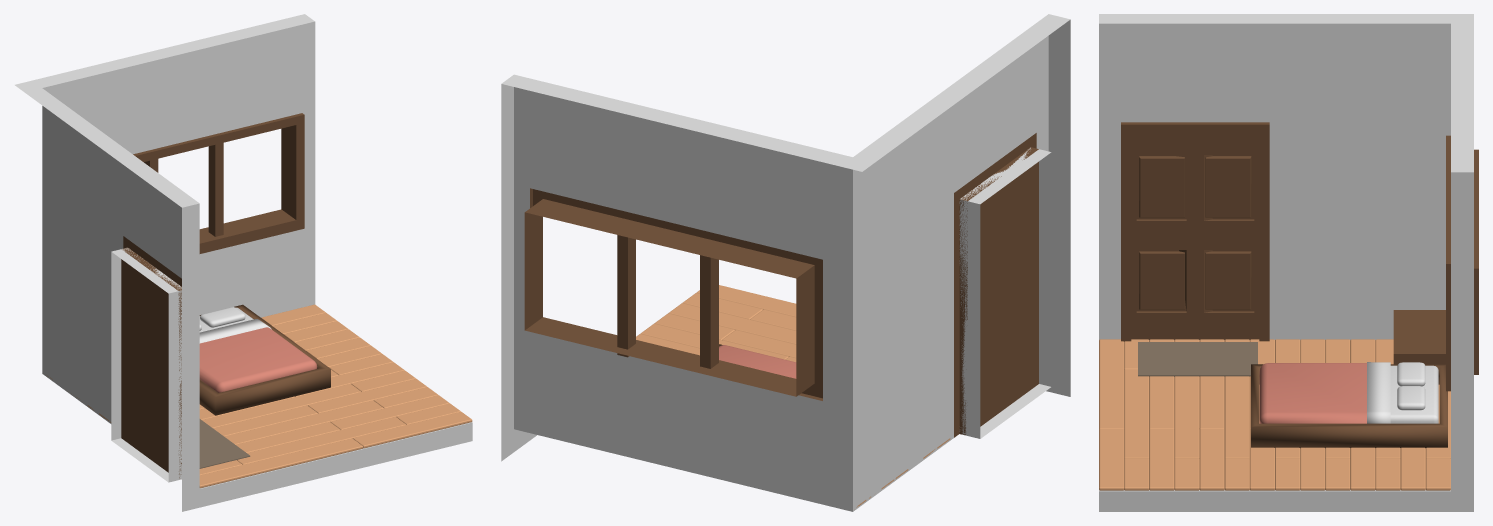
File: myModel.glb
The picture shows the model from 3 angles, left to right: view 1: azimuth 30°, elevation 25°; view 2: azimuth 150°, elevation 25°; view 3: azimuth 270°, elevation 25°; orthographic projection. The views are drawn at different scales.
Visible parts, largest first — view 1: Cube, Plane.004, Cube.001, Cube.007, Cube.003, Cube.005, Cube.009, Cube.013, Cube.004, Cube.011, Cube.002; view 2: Cube, Cube.001, Cube.003, Plane.004, Cube.004, Cube.002, Cube.009, Cube.008, Cube.007; view 3: Cube, Plane.004, Cube.001, Cube.007, Cube.002, Cube.005, Cube.013, Cube.012, Cube.003, Cube.006, Cube.011, Cube.010.
Boxes of the visible parts, left/top/right/bottom form: Cube: left=15, top=14, right=472, bottom=511; Plane.004: left=47, top=304, right=472, bottom=488; Cube.001: left=121, top=247, right=181, bottom=478; Cube.007: left=199, top=319, right=317, bottom=392; Cube.003: left=133, top=113, right=304, bottom=253; Cube.005: left=199, top=304, right=330, bottom=415; Cube.009: left=208, top=142, right=223, bottom=236; Cube.013: left=199, top=419, right=250, bottom=468; Cube.004: left=199, top=209, right=293, bottom=241; Cube.011: left=200, top=307, right=245, bottom=327; Cube.002: left=123, top=236, right=181, bottom=286; Cube: left=501, top=14, right=1070, bottom=511; Cube.001: left=959, top=147, right=1038, bottom=435; Cube.003: left=524, top=188, right=822, bottom=400; Plane.004: left=636, top=285, right=950, bottom=509; Cube.004: left=525, top=319, right=796, bottom=396; Cube.002: left=954, top=133, right=1036, bottom=437; Cube.009: left=617, top=235, right=635, bottom=357; Cube.008: left=700, top=255, right=718, bottom=368; Cube.007: left=719, top=345, right=796, bottom=378; Cube: left=1099, top=14, right=1473, bottom=511; Plane.004: left=1099, top=339, right=1450, bottom=490; Cube.001: left=1131, top=133, right=1259, bottom=339; Cube.007: left=1259, top=362, right=1390, bottom=423; Cube.002: left=1121, top=122, right=1269, bottom=341; Cube.005: left=1251, top=364, right=1447, bottom=448; Cube.013: left=1138, top=342, right=1257, bottom=376; Cube.012: left=1393, top=310, right=1445, bottom=364; Cube.003: left=1446, top=135, right=1478, bottom=391; Cube.006: left=1390, top=365, right=1438, bottom=423; Cube.011: left=1397, top=386, right=1425, bottom=410; Cube.010: left=1397, top=362, right=1425, bottom=386.
Size of what is drawn, in the model's own units: 2.13 by 2.13 by 2.16.
